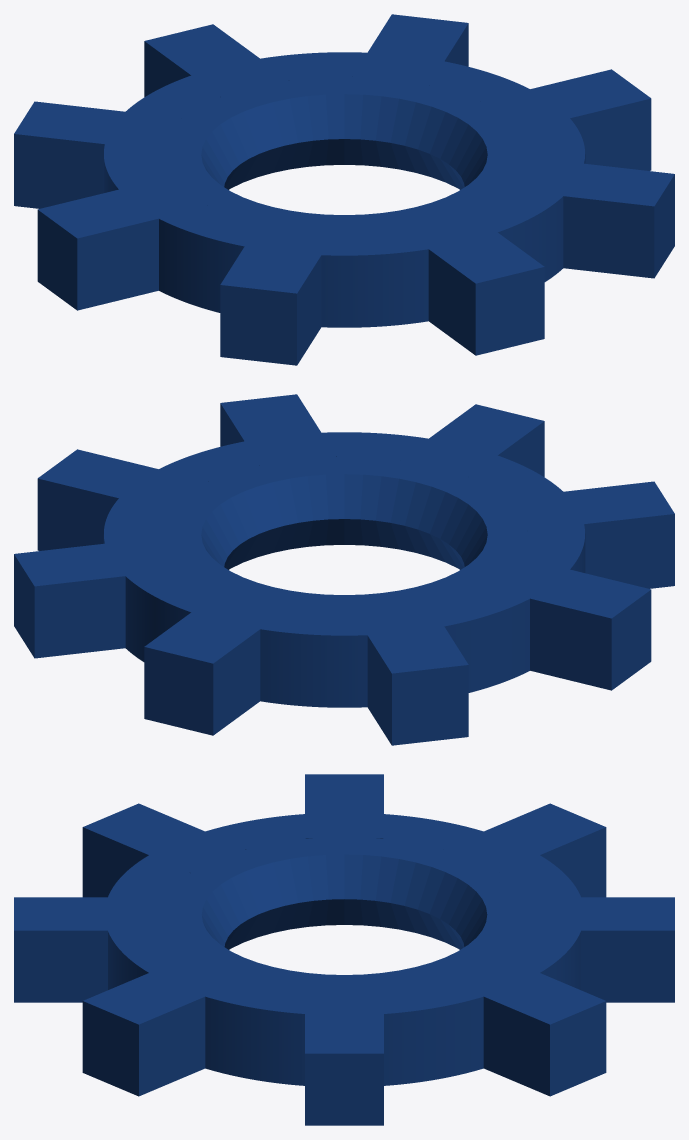
Rendered from backend.glb.
The picture shows the model from 3 angles, top to bottom: view 1: azimuth 30°, elevation 25°; view 2: azimuth 150°, elevation 25°; view 3: azimuth 270°, elevation 25°; orthographic projection.
Visible parts, largest first — view 1: Cube; view 2: Cube; view 3: Cube.
Boxes of the visible parts, x1,y1,x2,y2 form: Cube: [14, 14, 674, 365]; Cube: [14, 394, 674, 745]; Cube: [14, 774, 674, 1125].
Size of the model in its own units: 5 by 0.6 by 5.
